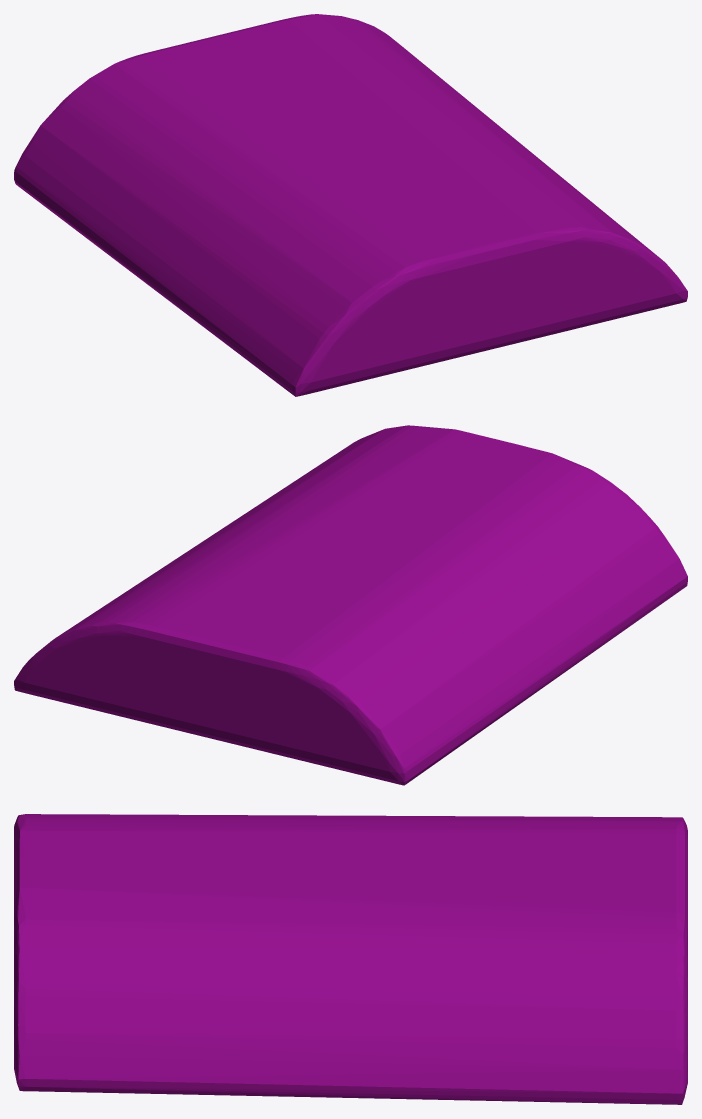
File: left_shoulder_yaw_link_part_14.obj
The picture shows the model from 3 angles, top to bottom: view 1: azimuth 30°, elevation 25°; view 2: azimuth 150°, elevation 25°; view 3: azimuth 270°, elevation 25°; orthographic projection. The views are drawn at different scales.
Bounding box in the file's own units: 0.0515 × 0.0124 × 0.0627.
